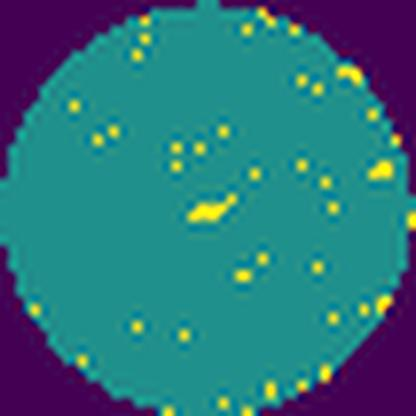Center: (187, 197, 237, 225)
